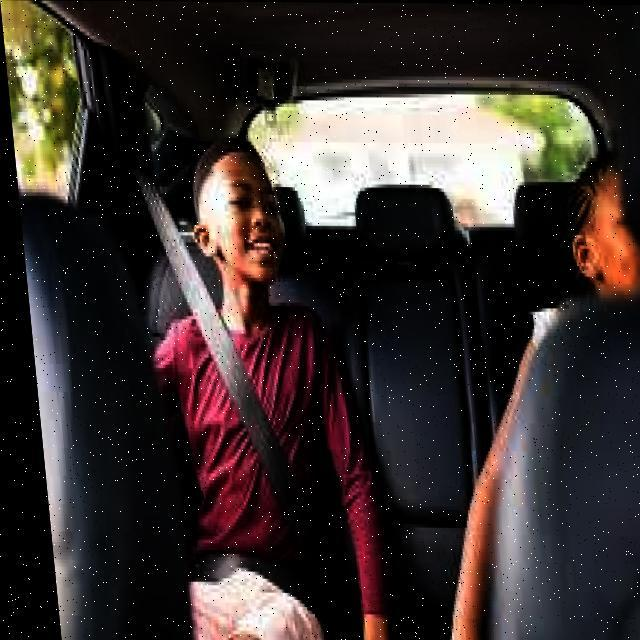seatbelt: (136, 275, 347, 593)
